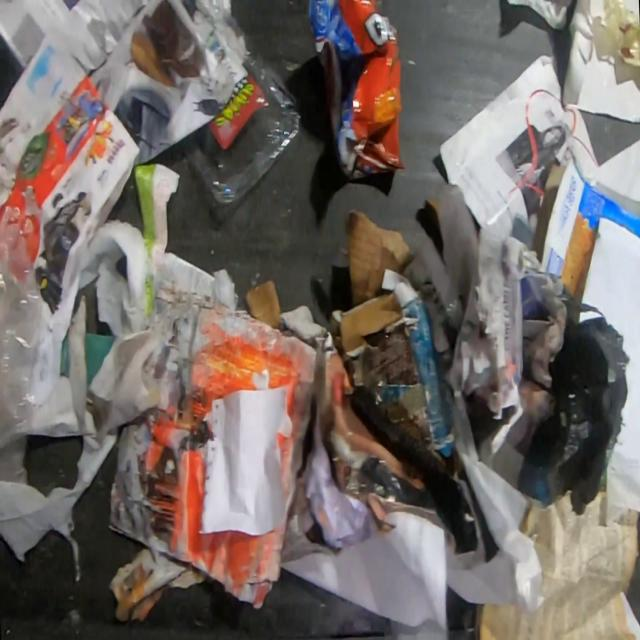cardboard: (329, 209, 466, 476), (532, 159, 640, 303), (244, 279, 284, 332)
rigid_plastic: (178, 0, 302, 205)
soft_plastic: (305, 0, 406, 182), (0, 214, 58, 451)
